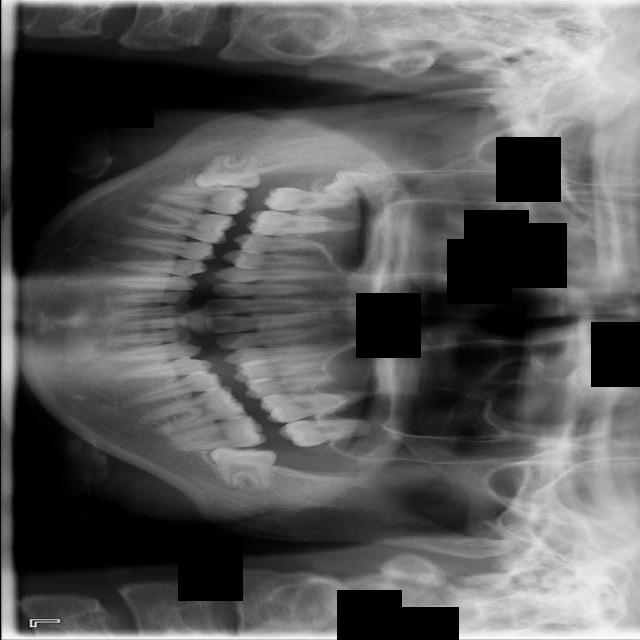3M ESPE Implant: (322, 167, 383, 200)
73: (34, 600, 52, 610)
BioHorizons Implant: (278, 419, 372, 448)
Biomet 3i Implant: (208, 445, 277, 492)
Blue Sky Bio Implant: (161, 411, 268, 464)
Caries: (262, 187, 360, 210)
Implant: (144, 184, 250, 217)
Keystone Dental Implant: (193, 150, 261, 193)
